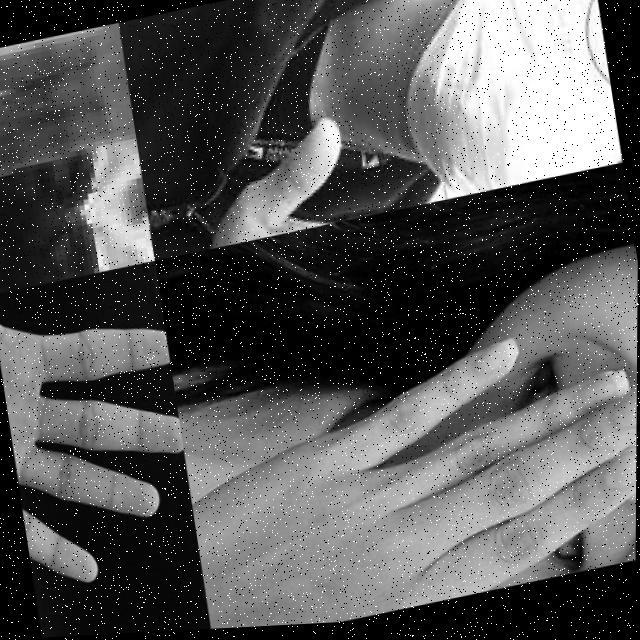no-gloves: (176, 317, 638, 633), (0, 260, 203, 596), (164, 83, 522, 257), (0, 21, 150, 254)
